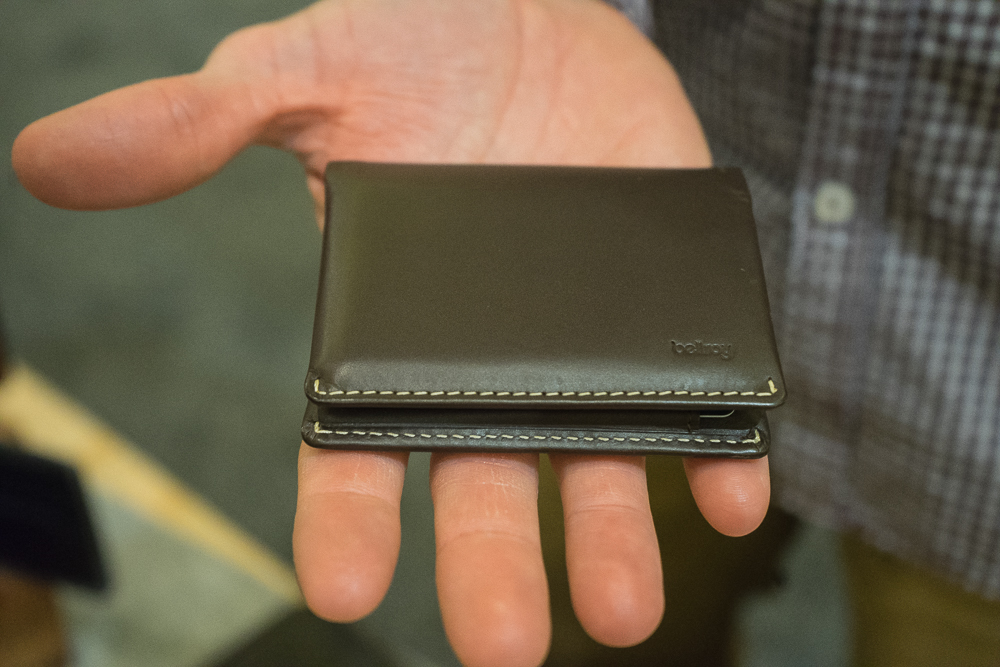monedero: (297, 160, 791, 463)
